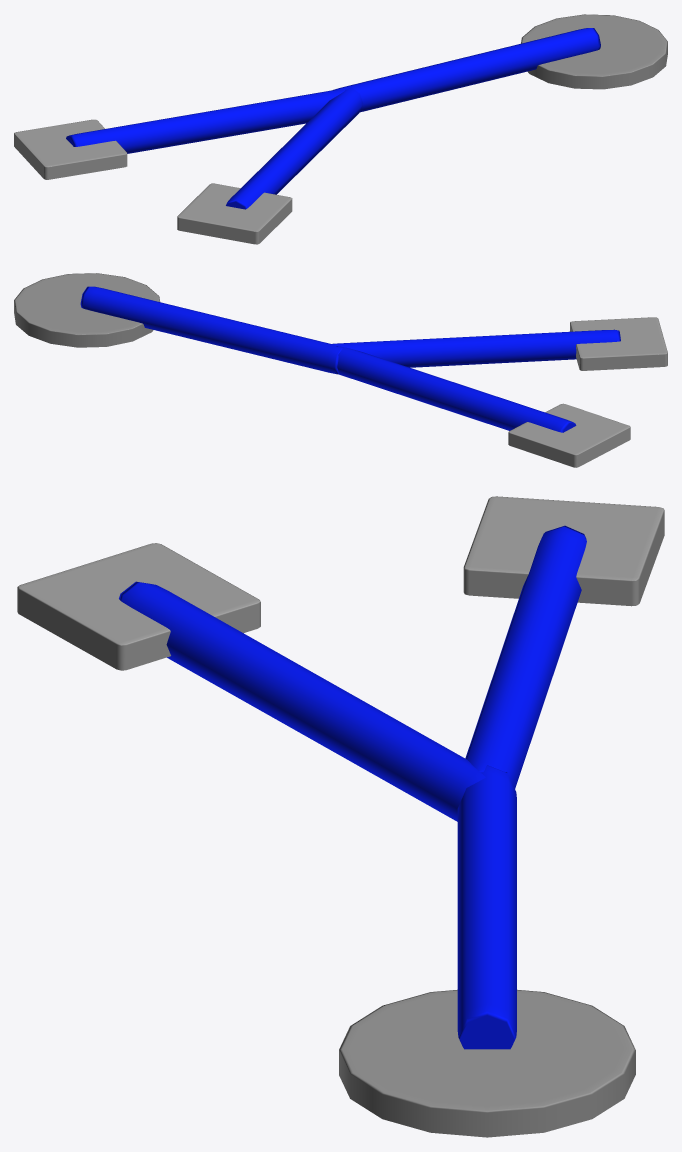
File: Monospinner.obj
3 views of the same model, one above another, from view 1: azimuth 30°, elevation 25°; view 2: azimuth 150°, elevation 25°; view 3: azimuth 270°, elevation 25° (orthographic). The views are drawn at different scales.
Visible parts, largest first — view 1: 002_Cylinder_3, 005_Cylinder, 004_Cylinder_2, 003_Cylinder_1, 000_Box_1, 001_Box; view 2: 005_Cylinder, 002_Cylinder_3, 003_Cylinder_1, 004_Cylinder_2, 001_Box, 000_Box_1; view 3: 002_Cylinder_3, 003_Cylinder_1, 005_Cylinder, 000_Box_1, 001_Box, 004_Cylinder_2.
Boxes of the visible parts, left/top/right/bottom form: 002_Cylinder_3: left=521, top=14, right=667, bottom=89; 005_Cylinder: left=333, top=28, right=600, bottom=112; 004_Cylinder_2: left=66, top=89, right=345, bottom=153; 003_Cylinder_1: left=226, top=87, right=363, bottom=209; 000_Box_1: left=177, top=183, right=292, bottom=244; 001_Box: left=14, top=119, right=127, bottom=179; 005_Cylinder: left=80, top=286, right=342, bottom=374; 002_Cylinder_3: left=14, top=273, right=160, bottom=347; 003_Cylinder_1: left=330, top=329, right=620, bottom=367; 004_Cylinder_2: left=336, top=346, right=576, bottom=432; 001_Box: left=508, top=403, right=630, bottom=467; 000_Box_1: left=570, top=317, right=667, bottom=370; 002_Cylinder_3: left=339, top=989, right=635, bottom=1137; 003_Cylinder_1: left=119, top=581, right=485, bottom=821; 005_Cylinder: left=457, top=765, right=516, bottom=1049; 000_Box_1: left=17, top=543, right=260, bottom=670; 001_Box: left=463, top=496, right=664, bottom=606; 004_Cylinder_2: left=465, top=525, right=586, bottom=788.
Bounding box in the file's own units: 237 × 11.69 × 109.
